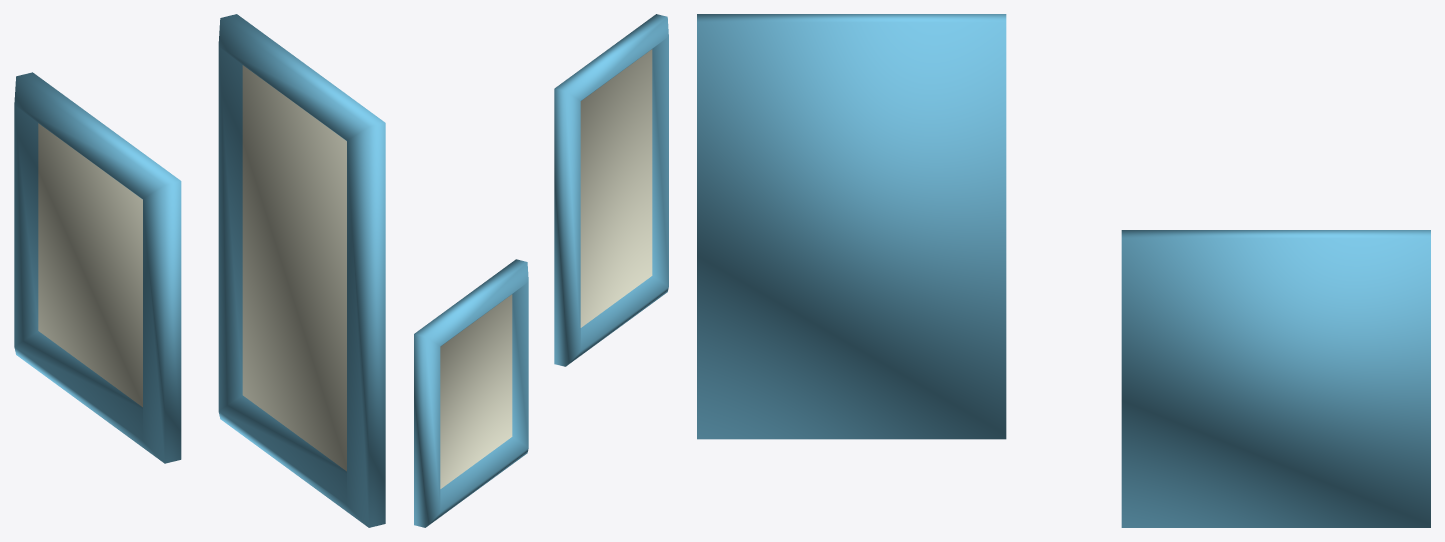
The model's file is Frames.fbx.
The picture shows the model from 3 angles, left to right: view 1: azimuth 30°, elevation 25°; view 2: azimuth 150°, elevation 25°; view 3: azimuth 270°, elevation 25°; orthographic projection. The views are drawn at different scales.
Visible parts, largest first — view 1: Plane.533; view 2: Plane.533; view 3: Plane.533.
Boxes of the visible parts, x1,y1,x2,y2 form: Plane.533: (14,14,385,527); Plane.533: (414,14,668,527); Plane.533: (697,14,1430,527).
Bounding box in the file's own units: 5.19 × 84.69 × 111.
1 material, 1 textured.
